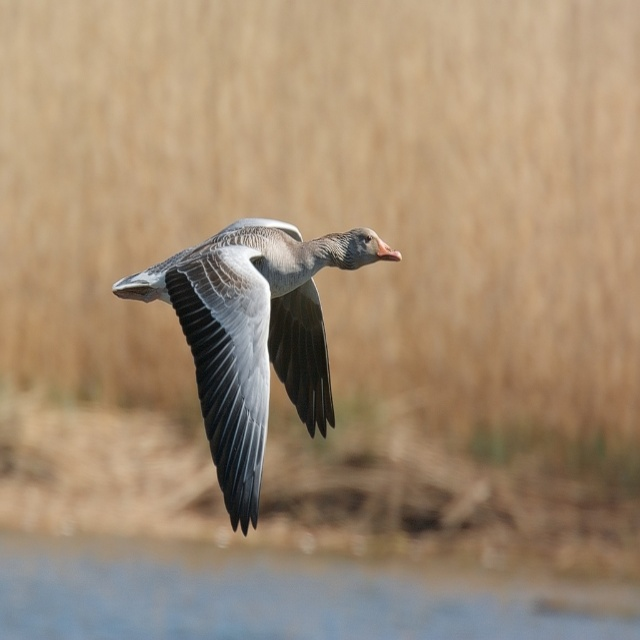Goose: (114, 217, 400, 534)
